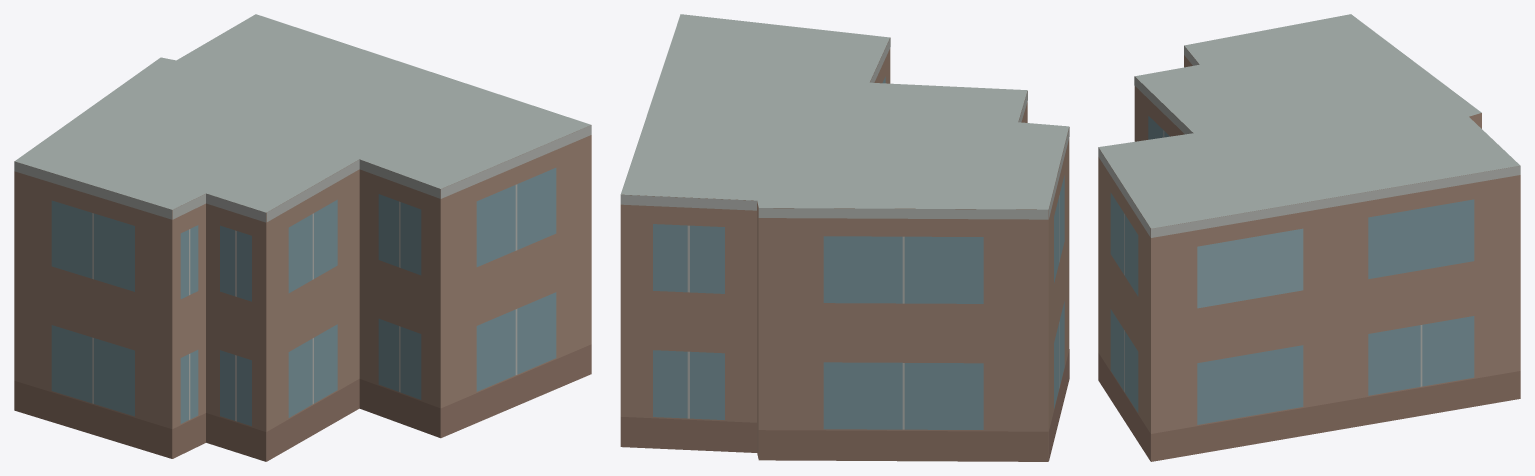
Rendered from survey-upis-33004166.glb.
3 renders of one model, left to right at view 1: azimuth 30°, elevation 25°; view 2: azimuth 150°, elevation 25°; view 3: azimuth 270°, elevation 25°, orthographic. The views are drawn at different scales.
Visible parts, largest first — view 1: survey-upis-33004166.tmp; view 2: survey-upis-33004166.tmp; view 3: survey-upis-33004166.tmp.
Part boxes in pixels (left/top/right/bottom): survey-upis-33004166.tmp: left=14, top=14, right=591, bottom=461; survey-upis-33004166.tmp: left=620, top=14, right=1069, bottom=461; survey-upis-33004166.tmp: left=1098, top=14, right=1520, bottom=461.
Bounding box in the file's own units: 12.06 × 6.1 × 10.02.
